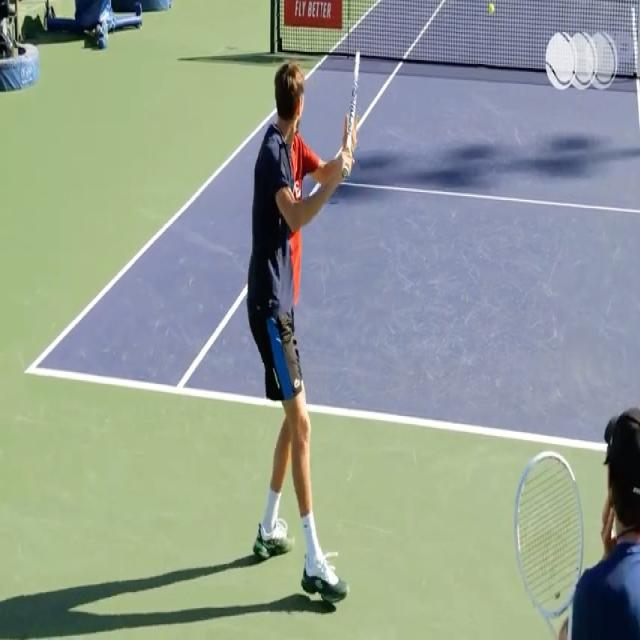forehand-ready: (246, 51, 378, 602)
